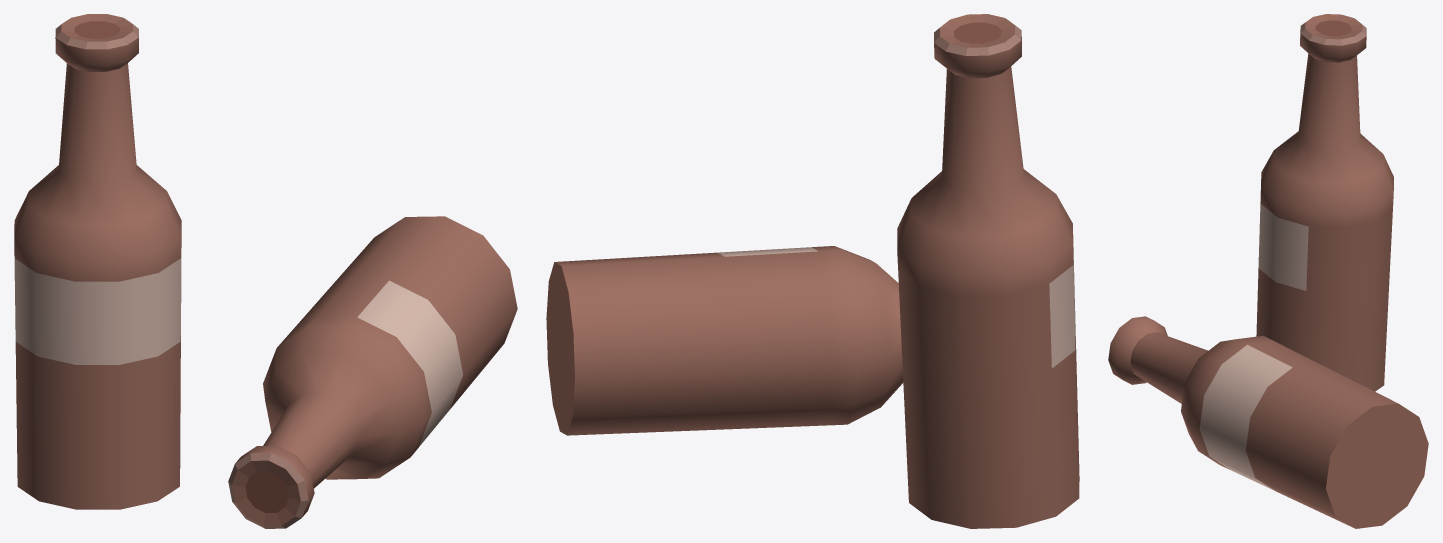
The model's file is Beerbotlex2.fbx.
The picture shows the model from 3 angles, left to right: view 1: azimuth 30°, elevation 25°; view 2: azimuth 150°, elevation 25°; view 3: azimuth 270°, elevation 25°; orthographic projection. The views are drawn at different scales.
Parts seen in each view (by area): view 1: BeerbottleX2; view 2: BeerbottleX2; view 3: BeerbottleX2.
Boxes of the visible parts, x1,y1,x2,y2 form: BeerbottleX2: [14, 14, 517, 528]; BeerbottleX2: [546, 14, 1079, 528]; BeerbottleX2: [1108, 14, 1428, 528].
Bounding box in the file's own units: 67.88 × 60.22 × 48.08.
Materials: 1 (1 with a texture image).
